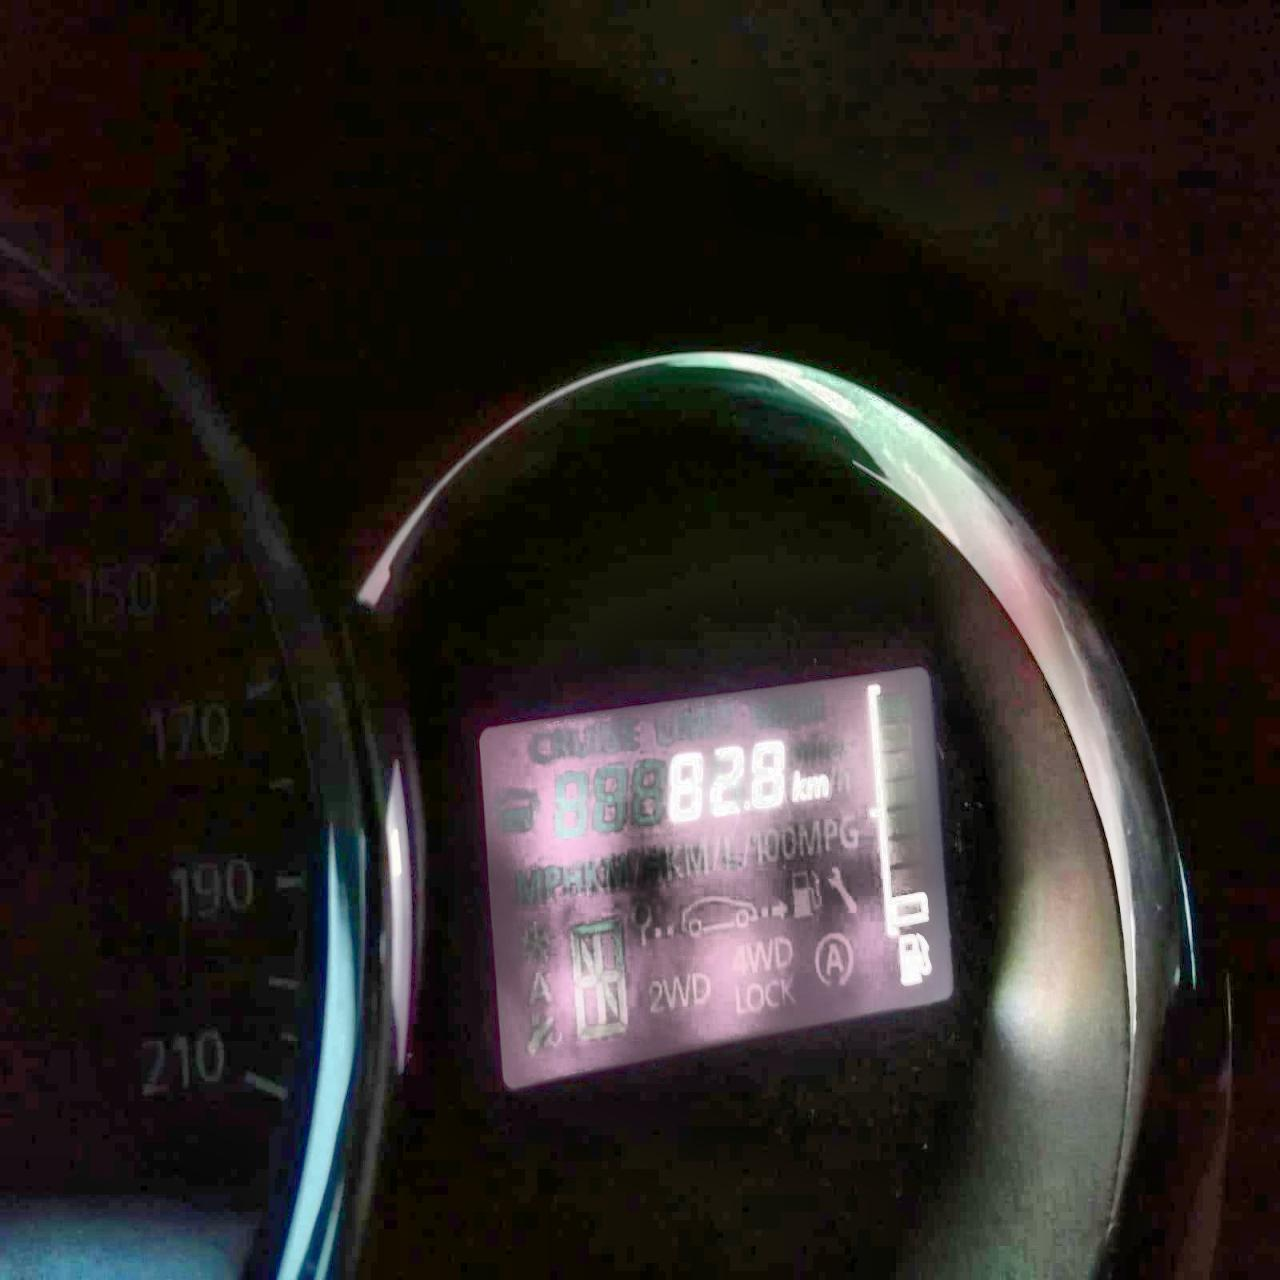-: (742, 798, 749, 812)
2: (708, 743, 745, 816)
8: (667, 750, 704, 822), (749, 738, 784, 810)
X: (805, 774, 829, 799), (790, 769, 806, 802)
odometer: (476, 662, 956, 1092)
